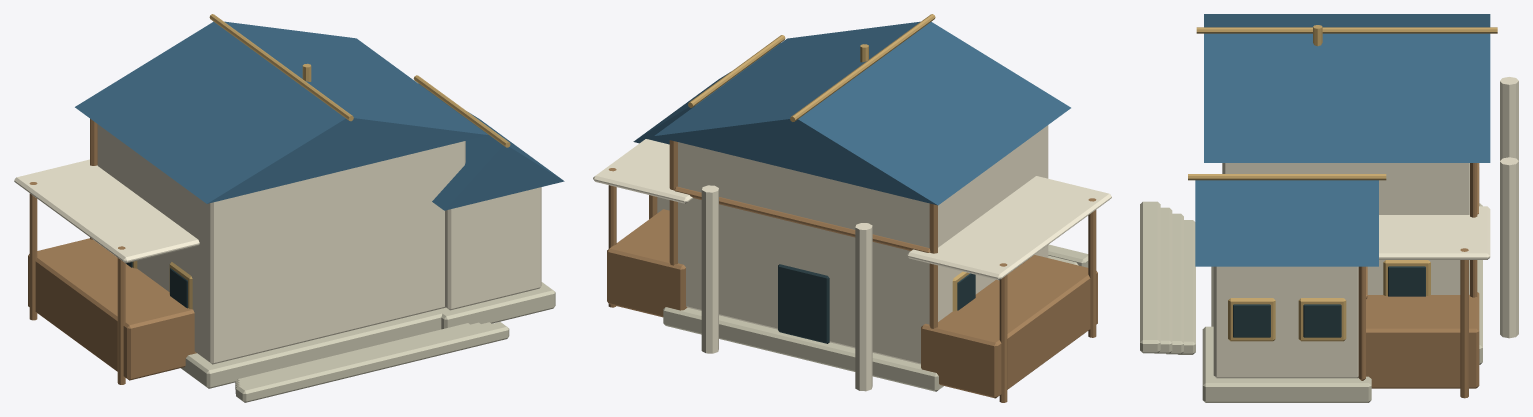
File: level_27.glb
3 renders of one model, left to right at view 1: azimuth 30°, elevation 25°; view 2: azimuth 150°, elevation 25°; view 3: azimuth 270°, elevation 25°, orthographic. The views are drawn at different scales.
Visible parts, largest first — view 1: market — level 27; view 2: market — level 27; view 3: market — level 27.
Part boxes in pixels (x1,y1,x2,y2): market — level 27: [14, 14, 564, 402]; market — level 27: [593, 14, 1111, 402]; market — level 27: [1140, 14, 1518, 402].
Bounding box in the file's own units: 7.08 × 4.11 × 5.16.
